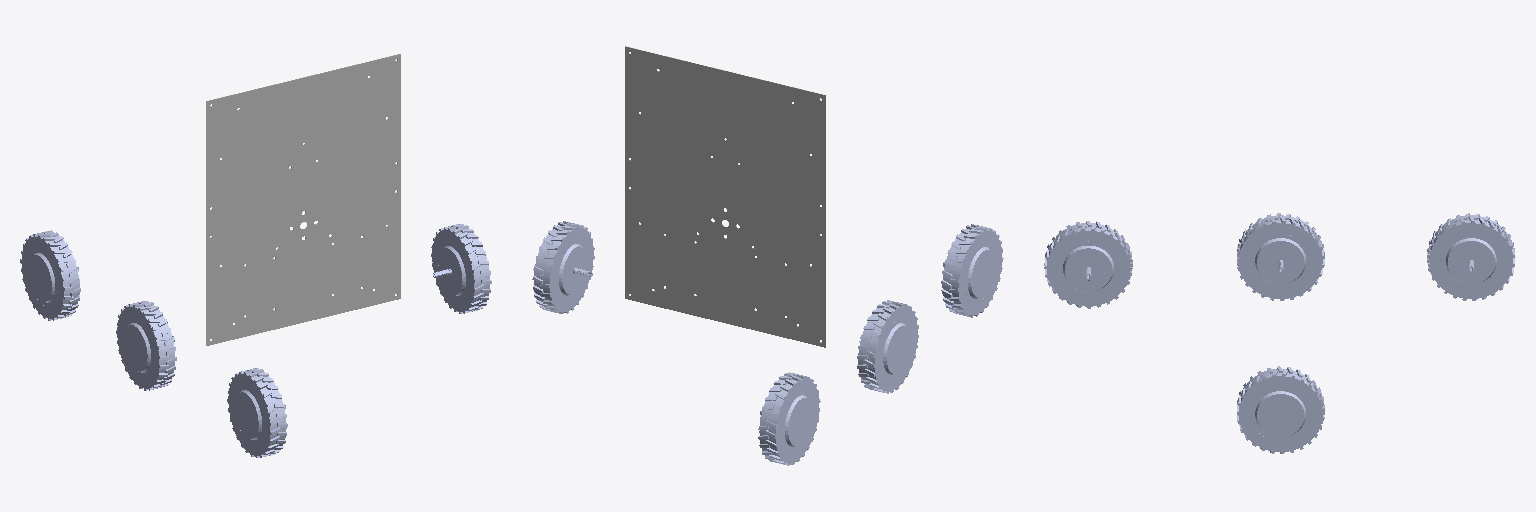
robot.urdf — mesh_test_5:
<?xml version="1.0" encoding="utf-8"?>
<!-- This URDF was automatically created by SolidWorks to URDF Exporter! Originally created by [author] ([email redacted]) 
     Commit Version: 1.6.0-4-g7f85cfe  Build Version: 1.6.7995.38578
     For more information, please see http://wiki.ros.org/sw_urdf_exporter -->
<robot
  name="mesh_test_5">
  <link
    name="base_link">
    <inertial>
      <origin
        xyz="0.00664331649202377 -0.12949405927652 0.0682849667089877"
        rpy="0 0 0" />
      <mass
        value="10.7076896384877" />
      <inertia
        ixx="0.0934055204834732"
        ixy="0.000551174734574196"
        ixz="-0.000123088034967561"
        iyy="0.0711338279657958"
        iyz="0.000281149278265808"
        izz="0.152713841092885" />
    </inertial>
    <visual>
      <origin
        xyz="0 0 0"
        rpy="0 0 0" />
      <geometry>
        <mesh
          filename="package://mesh_test_5/meshes/base_link.STL" />
      </geometry>
      <material
        name="">
        <color
          rgba="0.752941176470588 0.752941176470588 0.752941176470588 1" />
      </material>
    </visual>
    <collision>
      <origin
        xyz="0 0 0"
        rpy="0 0 0" />
      <geometry>
        <mesh
          filename="package://mesh_test_5/meshes/base_link.STL" />
      </geometry>
    </collision>
  </link>
  <link
    name="left_rear_wheel_link">
    <inertial>
      <origin
        xyz="0.000118305531411345 1.74537939656716E-10 -5.39893773576772E-07"
        rpy="0 0 0" />
      <mass
        value="1.38515667925412" />
      <inertia
        ixx="0.00608670649415379"
        ixy="-1.30467261719037E-10"
        ixz="5.01634427641763E-08"
        iyy="0.00331734803830799"
        iyz="5.84204525054353E-11"
        izz="0.00331733096263903" />
    </inertial>
    <visual>
      <origin
        xyz="0 0 0"
        rpy="0 0 0" />
      <geometry>
        <mesh
          filename="package://mesh_test_5/meshes/left_rear_wheel_link.STL" />
      </geometry>
      <material
        name="">
        <color
          rgba="0.792156862745098 0.819607843137255 0.933333333333333 1" />
      </material>
    </visual>
    <collision>
      <origin
        xyz="0 0 0"
        rpy="0 0 0" />
      <geometry>
        <mesh
          filename="package://mesh_test_5/meshes/left_rear_wheel_link.STL" />
      </geometry>
    </collision>
  </link>
  <joint
    name="left_rear_wheel_joint"
    type="continuous">
    <origin
      xyz="-0.410080546831398 0.431799977649541 -0.266700099058444"
      rpy="0 0 0" />
    <parent
      link="base_link" />
    <child
      link="left_rear_wheel_link" />
    <axis
      xyz="-1 0 0" />
  </joint>
  <link
    name="right_rear_wheel_link">
    <inertial>
      <origin
        xyz="-0.000118305531393803 6.41474795504138E-09 -5.476164268714E-07"
        rpy="0 0 0" />
      <mass
        value="1.38515667925022" />
      <inertia
        ixx="0.00608670649414288"
        ixy="-1.5161348682761E-10"
        ixz="-5.01382976676803E-08"
        iyy="0.00331734776436555"
        iyz="-1.68192191085967E-11"
        izz="0.00331733123657076" />
    </inertial>
    <visual>
      <origin
        xyz="0 0 0"
        rpy="0 0 0" />
      <geometry>
        <mesh
          filename="package://mesh_test_5/meshes/right_rear_wheel_link.STL" />
      </geometry>
      <material
        name="">
        <color
          rgba="0.792156862745098 0.819607843137255 0.933333333333333 1" />
      </material>
    </visual>
    <collision>
      <origin
        xyz="0 0 0"
        rpy="0 0 0" />
      <geometry>
        <mesh
          filename="package://mesh_test_5/meshes/right_rear_wheel_link.STL" />
      </geometry>
    </collision>
  </link>
  <joint
    name="right_rear_wheel_joint"
    type="continuous">
    <origin
      xyz="0.410144046831398 0.431799989920548 -0.2667000000083"
      rpy="0 0 0" />
    <parent
      link="base_link" />
    <child
      link="right_rear_wheel_link" />
    <axis
      xyz="1 0 0" />
  </joint>
  <link
    name="left_middle_wheel_link">
    <inertial>
      <origin
        xyz="0.000118305531391694 -4.10783555968475E-07 -3.64957963128187E-07"
        rpy="0 0 0" />
      <mass
        value="1.38515667924975" />
      <inertia
        ixx="0.00608670649414168"
        ixy="3.79376286142155E-08"
        ixz="3.27726783483444E-08"
        iyy="0.00331733834943749"
        iyz="-8.20130896089471E-09"
        izz="0.00331734065149748" />
    </inertial>
    <visual>
      <origin
        xyz="0 0 0"
        rpy="0 0 0" />
      <geometry>
        <mesh
          filename="package://mesh_test_5/meshes/left_middle_wheel_link.STL" />
      </geometry>
      <material
        name="">
        <color
          rgba="0.792156862745098 0.819607843137255 0.933333333333333 1" />
      </material>
    </visual>
    <collision>
      <origin
        xyz="0 0 0"
        rpy="0 0 0" />
      <geometry>
        <mesh
          filename="package://mesh_test_5/meshes/left_middle_wheel_link.STL" />
      </geometry>
    </collision>
  </link>
  <joint
    name="left_middle_wheel_joint"
    type="continuous">
    <origin
      xyz="-0.410080546831398 0 -0.266700079325523"
      rpy="0 0 0" />
    <parent
      link="base_link" />
    <child
      link="left_middle_wheel_link" />
    <axis
      xyz="-1 0 0" />
  </joint>
  <link
    name="right_middle_wheel_link">
    <inertial>
      <origin
        xyz="-0.000118305531422003 -4.11470921535731E-07 -3.4978824414722E-07"
        rpy="0 0 0" />
      <mass
        value="1.38515667925641" />
      <inertia
        ixx="0.00608670649415985"
        ixy="-3.81060675117112E-08"
        ixz="-3.2623155185411E-08"
        iyy="0.00331733827450242"
        iyz="-8.43766950775376E-09"
        izz="0.00331734072645102" />
    </inertial>
    <visual>
      <origin
        xyz="0 0 0"
        rpy="0 0 0" />
      <geometry>
        <mesh
          filename="package://mesh_test_5/meshes/right_middle_wheel_link.STL" />
      </geometry>
      <material
        name="">
        <color
          rgba="0.792156862745098 0.819607843137255 0.933333333333333 1" />
      </material>
    </visual>
    <collision>
      <origin
        xyz="0 0 0"
        rpy="0 0 0" />
      <geometry>
        <mesh
          filename="package://mesh_test_5/meshes/right_middle_wheel_link.STL" />
      </geometry>
    </collision>
  </link>
  <joint
    name="right_middle_wheel_joint"
    type="continuous">
    <origin
      xyz="0.410144046831398 0 -0.266700008487084"
      rpy="0 0 0" />
    <parent
      link="base_link" />
    <child
      link="right_middle_wheel_link" />
    <axis
      xyz="1 0 0" />
  </joint>
  <link
    name="left_front_wheel_link">
    <inertial>
      <origin
        xyz="0.000155212043926711 9.00264929271088E-09 -5.47509620918429E-07"
        rpy="0 0 0" />
      <mass
        value="1.38515667925253" />
      <inertia
        ixx="0.00608670649414915"
        ixy="-1.51546150588797E-10"
        ixz="5.01389386245242E-08"
        iyy="0.00331734776435004"
        iyz="1.79208089608298E-11"
        izz="0.00331733123659271" />
    </inertial>
    <visual>
      <origin
        xyz="0 0 0"
        rpy="0 0 0" />
      <geometry>
        <mesh
          filename="package://mesh_test_5/meshes/left_front_wheel_link.STL" />
      </geometry>
      <material
        name="">
        <color
          rgba="0.792156862745098 0.819607843137255 0.933333333333333 1" />
      </material>
    </visual>
    <collision>
      <origin
        xyz="0 0 0"
        rpy="0 0 0" />
      <geometry>
        <mesh
          filename="package://mesh_test_5/meshes/left_front_wheel_link.STL" />
      </geometry>
    </collision>
  </link>
  <joint
    name="left_front_wheel_joint"
    type="continuous">
    <origin
      xyz="-0.3720174531686 -0.435037745405696 -0.267580612678357"
      rpy="0 0 0" />
    <parent
      link="base_link" />
    <child
      link="left_front_wheel_link" />
    <axis
      xyz="1 0 0" />
  </joint>
  <link
    name="right_front_wheel_link">
    <inertial>
      <origin
        xyz="-0.000118305531393748 6.41418229641033E-09 -5.47616426260777E-07"
        rpy="0 0 0" />
      <mass
        value="1.38515667925022" />
      <inertia
        ixx="0.0060867064941429"
        ixy="-1.51665263595653E-10"
        ixz="-5.01382975359655E-08"
        iyy="0.00331734776436552"
        iyz="-1.68365665676283E-11"
        izz="0.00331733123657081" />
    </inertial>
    <visual>
      <origin
        xyz="0 0 0"
        rpy="0 0 0" />
      <geometry>
        <mesh
          filename="package://mesh_test_5/meshes/right_front_wheel_link.STL" />
      </geometry>
      <material
        name="">
        <color
          rgba="0.792156862745098 0.819607843137255 0.933333333333333 1" />
      </material>
    </visual>
    <collision>
      <origin
        xyz="0 0 0"
        rpy="0 0 0" />
      <geometry>
        <mesh
          filename="package://mesh_test_5/meshes/right_front_wheel_link.STL" />
      </geometry>
    </collision>
  </link>
  <joint
    name="right_front_wheel_joint"
    type="continuous">
    <origin
      xyz="0.372044046831398 -0.435037644633047 -0.267580791212004"
      rpy="0 0 0" />
    <parent
      link="base_link" />
    <child
      link="right_front_wheel_link" />
    <axis
      xyz="1 0 0" />
  </joint>
</robot>

--- What the picture shows (computed from the rendered views, not written in the file) ---
Views: 3 orthographic renders of the robot side by side, from view 1: azimuth 30°, elevation 25°; view 2: azimuth 150°, elevation 25°; view 3: azimuth 270°, elevation 25°.
Model mesh_test_5 with 7 links and 6 joints (6 continuous), rooted at base_link, posed all joints at 0.
Links seen in each view (by area): view 1: base_link, right_middle_wheel_link, left_middle_wheel_link, left_rear_wheel_link, left_front_wheel_link; view 2: base_link, right_middle_wheel_link, left_rear_wheel_link, left_middle_wheel_link, left_front_wheel_link; view 3: left_middle_wheel_link, left_front_wheel_link, left_rear_wheel_link, right_middle_wheel_link.
Boxes of the visible links, x1,y1,x2,y2 form: base_link: [206, 54, 400, 345]; right_middle_wheel_link: [431, 224, 491, 313]; left_middle_wheel_link: [116, 301, 176, 390]; left_rear_wheel_link: [20, 230, 80, 320]; left_front_wheel_link: [227, 368, 287, 457]; base_link: [625, 46, 825, 347]; right_middle_wheel_link: [532, 221, 594, 313]; left_rear_wheel_link: [758, 372, 820, 465]; left_middle_wheel_link: [857, 300, 918, 393]; left_front_wheel_link: [941, 224, 1003, 317]; left_middle_wheel_link: [1237, 213, 1324, 300]; left_front_wheel_link: [1044, 221, 1132, 308]; left_rear_wheel_link: [1427, 213, 1515, 300]; right_middle_wheel_link: [1237, 366, 1324, 453].
Bounding box of the posed robot: 0.8763 × 1.07 × 0.6724 m (x, y, z).
5 mesh visuals loaded from 7 distinct referenced files (5 binary STL); not drawn: 2 (reference not matched to a file when rendering).